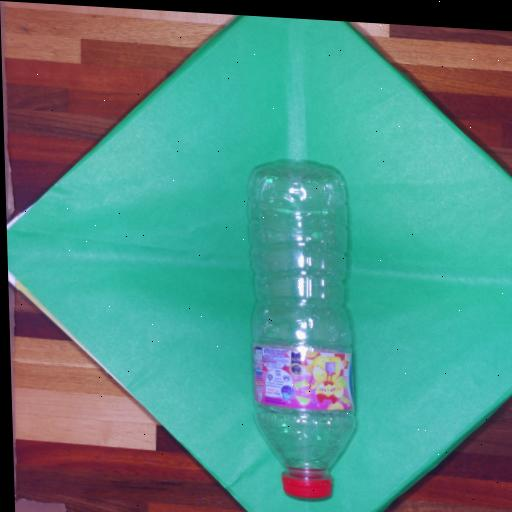bottle: (250, 164, 354, 497)
